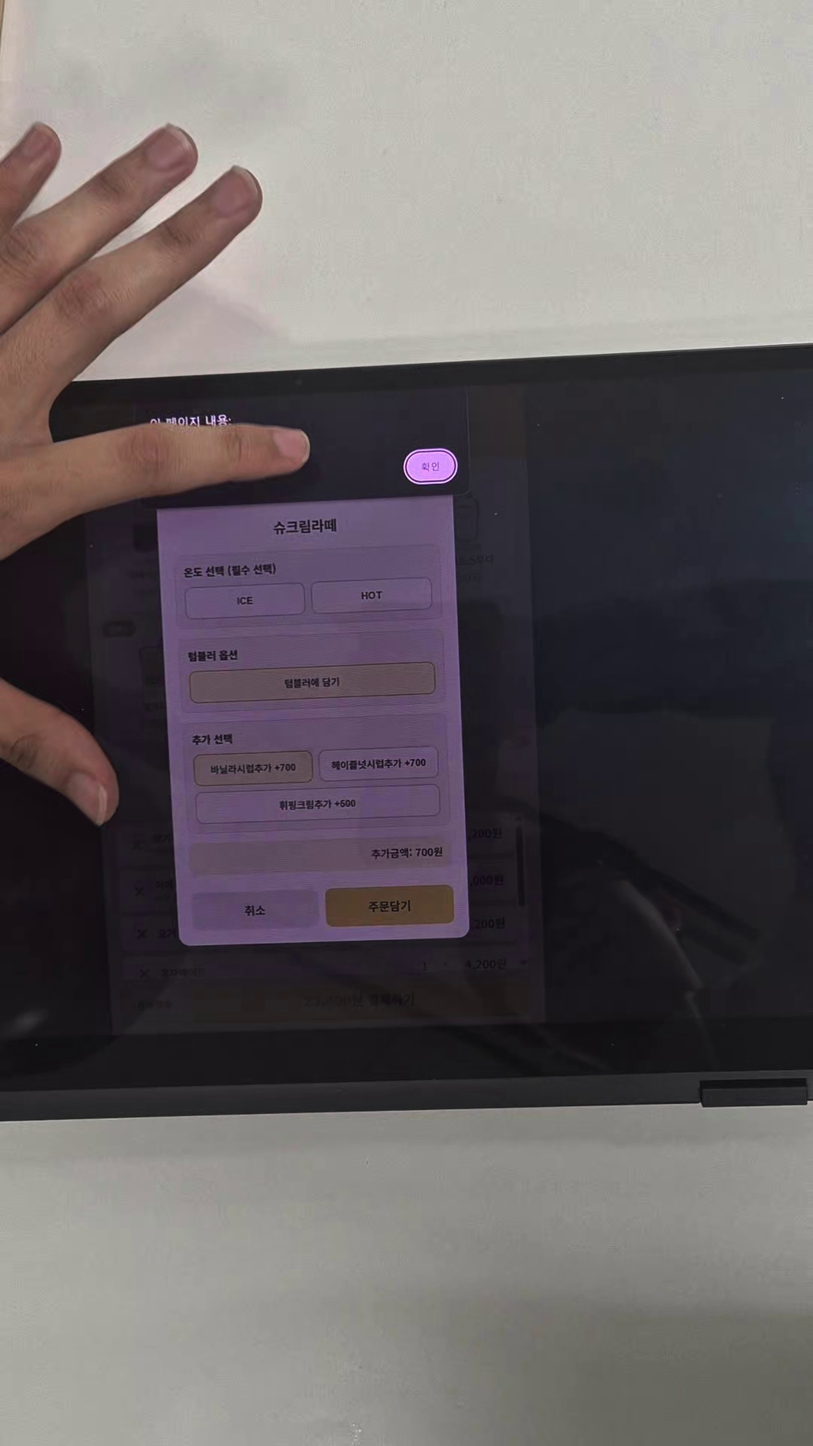option_button: (404, 447, 459, 486)
popup_modal: (134, 385, 470, 511)
